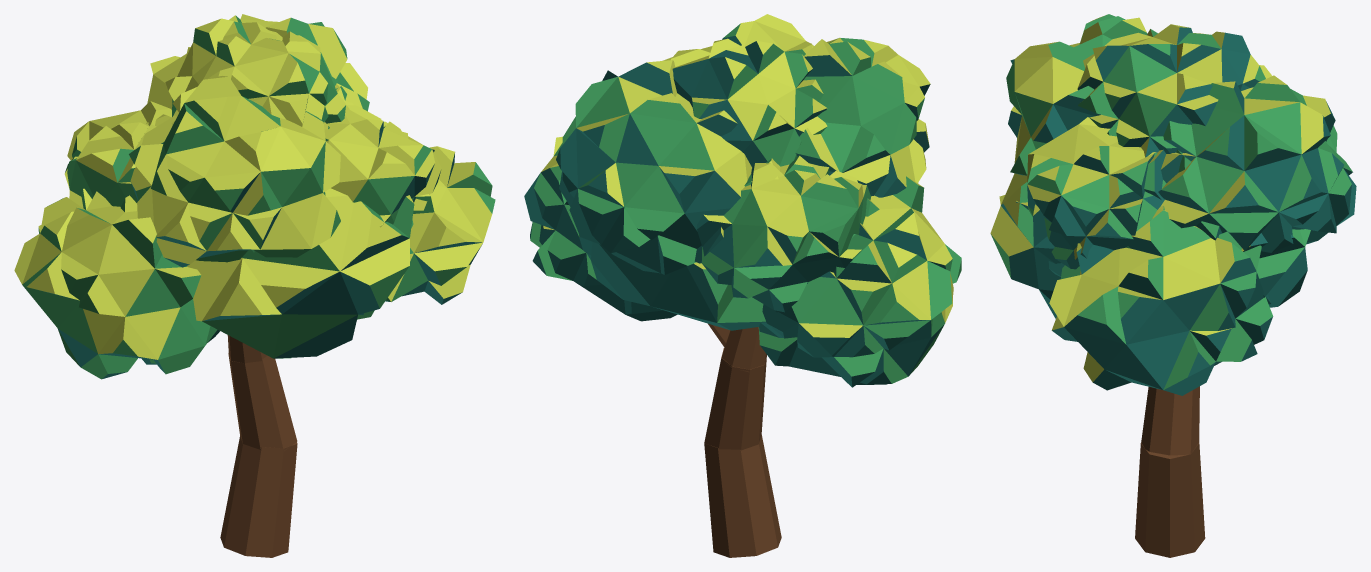
File: Agac_Buyuk_v2.fbx
The picture shows the model from 3 angles, left to right: view 1: azimuth 30°, elevation 25°; view 2: azimuth 150°, elevation 25°; view 3: azimuth 270°, elevation 25°; orthographic projection.
Parts seen in each view (by area): view 1: Agac_Buyuk; view 2: Agac_Buyuk; view 3: Agac_Buyuk.
Boxes of the visible parts, <box> form: Agac_Buyuk: <box>14,14,495,557</box>; Agac_Buyuk: <box>524,14,961,557</box>; Agac_Buyuk: <box>990,14,1356,557</box>.
Bounding box in the file's own units: 364 × 416 × 271.
